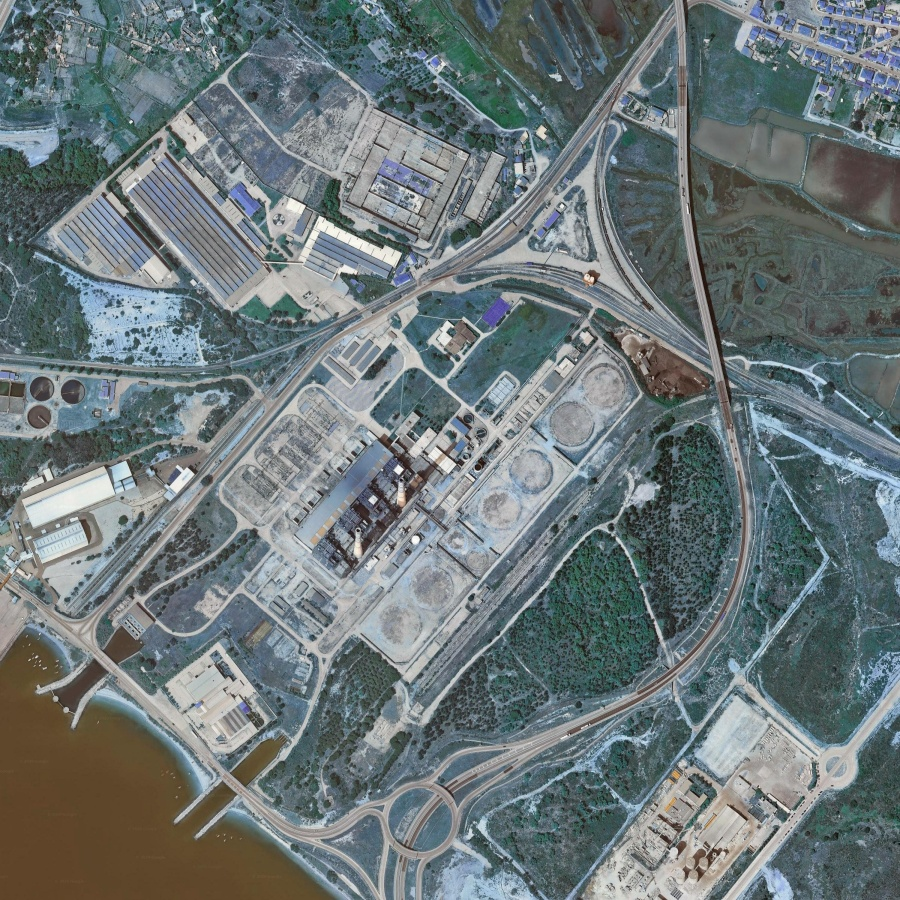PowerPlant: (254, 310, 628, 651)
